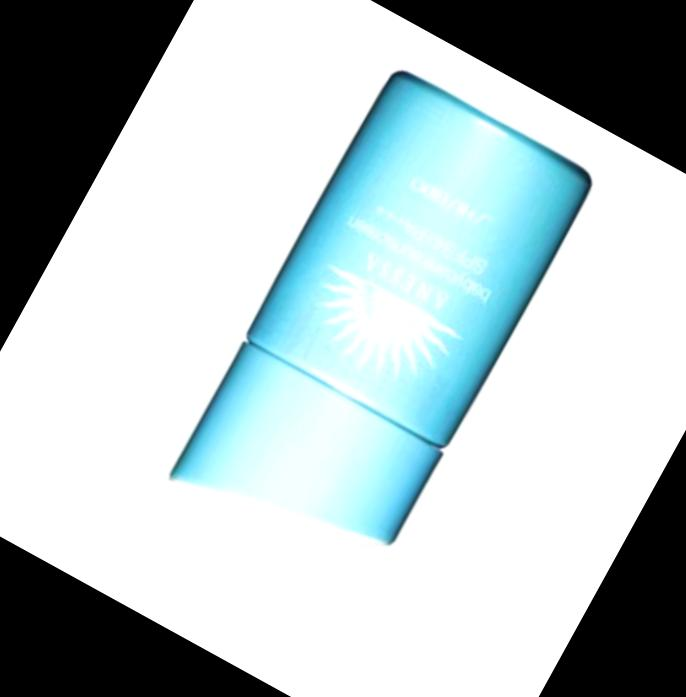cosmetic: (159, 61, 598, 593)
